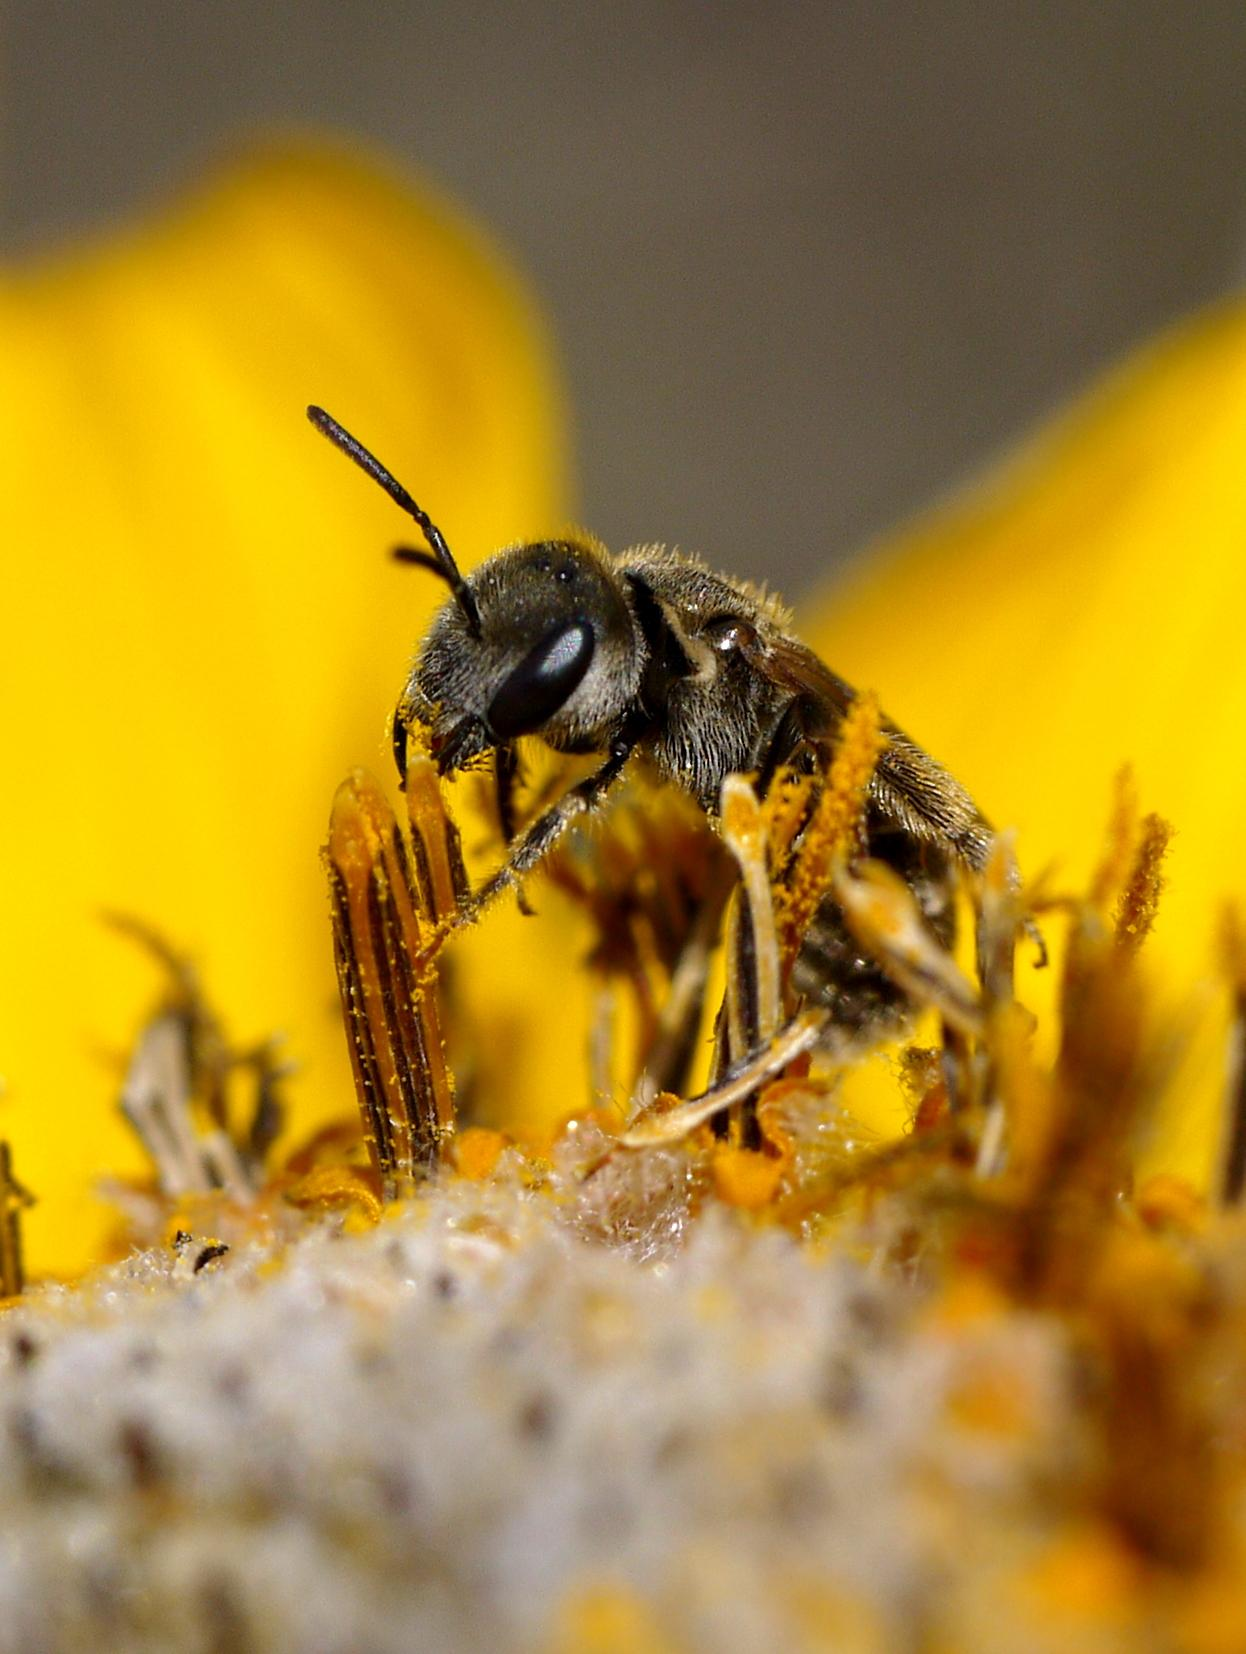Meliponula: (260, 377, 1042, 1204)
